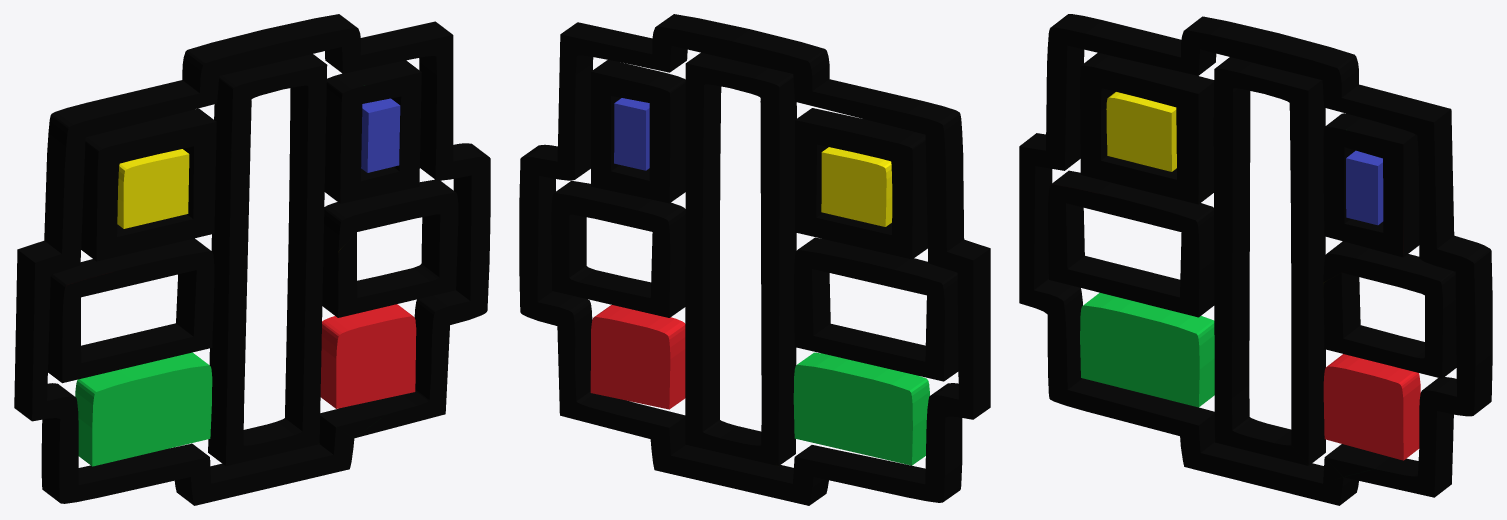
The model's file is upp.obj.
3 views of the same model, side by side, from view 1: azimuth 30°, elevation 25°; view 2: azimuth 150°, elevation 25°; view 3: azimuth 330°, elevation 25° (orthographic).
Visible parts, largest first — view 1: Object.3, Object.9, Object.7, Object.4, Object.6, Object.5, Object.8, Object.1, Object.10, Object.2; view 2: Object.3, Object.9, Object.7, Object.4, Object.5, Object.6, Object.8, Object.1, Object.10, Object.2; view 3: Object.3, Object.9, Object.7, Object.4, Object.5, Object.6, Object.8, Object.1, Object.10, Object.2.
Part boxes in pixels (bbox=[...]): Object.3: bbox=[14, 14, 490, 505]; Object.9: bbox=[208, 54, 327, 465]; Object.7: bbox=[48, 238, 214, 383]; Object.4: bbox=[81, 108, 216, 261]; Object.6: bbox=[322, 179, 458, 317]; Object.5: bbox=[75, 352, 212, 466]; Object.8: bbox=[324, 60, 421, 203]; Object.1: bbox=[320, 304, 416, 408]; Object.10: bbox=[117, 149, 189, 228]; Object.2: bbox=[361, 98, 400, 172]; Object.3: bbox=[519, 14, 990, 505]; Object.9: bbox=[685, 52, 796, 465]; Object.7: bbox=[794, 237, 958, 381]; Object.4: bbox=[795, 108, 927, 259]; Object.5: bbox=[793, 352, 929, 465]; Object.6: bbox=[551, 181, 685, 317]; Object.8: bbox=[591, 60, 685, 203]; Object.1: bbox=[590, 305, 685, 409]; Object.10: bbox=[821, 147, 892, 226]; Object.2: bbox=[614, 98, 649, 170]; Object.3: bbox=[1019, 14, 1492, 505]; Object.9: bbox=[1213, 57, 1325, 465]; Object.7: bbox=[1048, 170, 1214, 317]; Object.4: bbox=[1080, 53, 1213, 204]; Object.5: bbox=[1080, 293, 1214, 407]; Object.6: bbox=[1323, 241, 1456, 378]; Object.8: bbox=[1323, 113, 1419, 257]; Object.1: bbox=[1323, 354, 1420, 460]; Object.10: bbox=[1106, 92, 1176, 171]; Object.2: bbox=[1346, 150, 1383, 225].
Bounding box in the file's own units: 85.07 × 79.43 × 7.62.
Materials: 2 (2 with a texture image).
